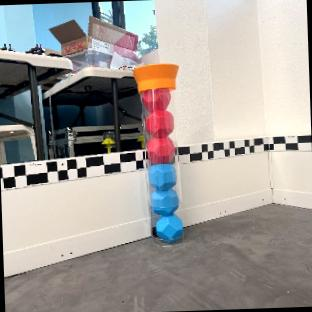Loader: (134, 62, 188, 247)
V5_BLUE: (149, 187, 179, 214), (154, 213, 181, 242), (148, 163, 177, 189)
V5_RED: (143, 107, 175, 137), (146, 136, 174, 163), (141, 87, 171, 111)
